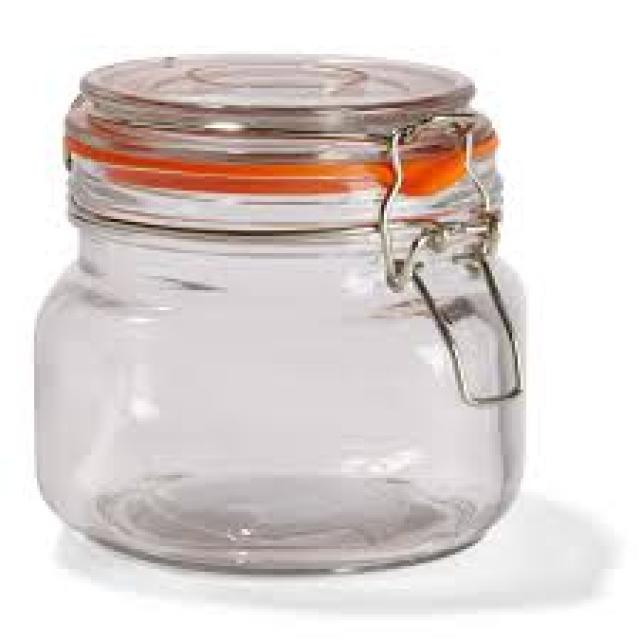glass: (32, 54, 521, 572)
